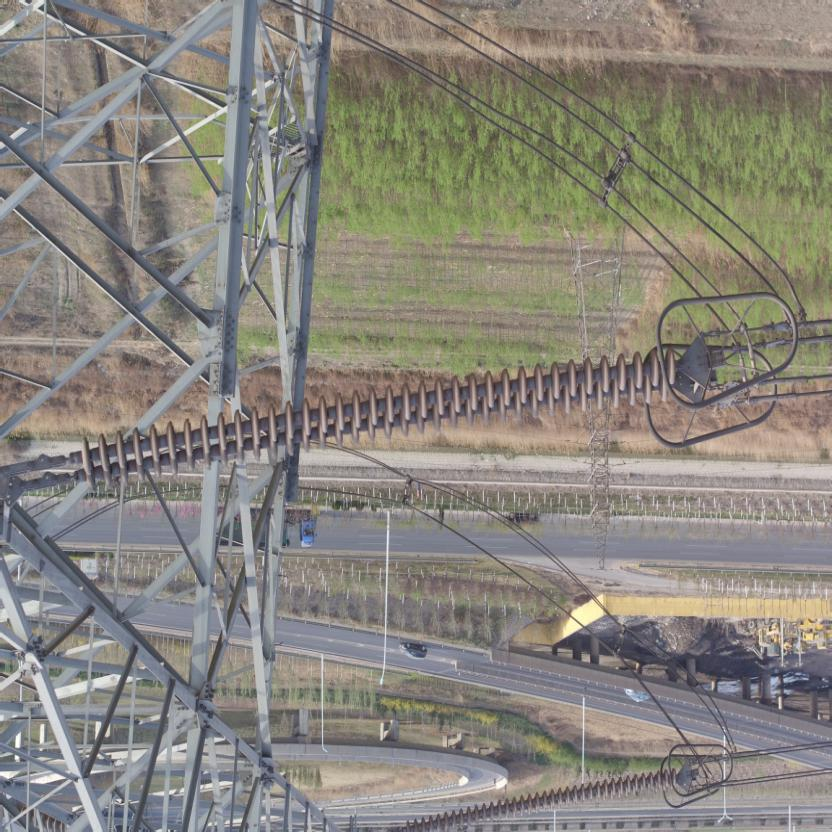insulator: (35, 342, 691, 500), (395, 765, 688, 831)
